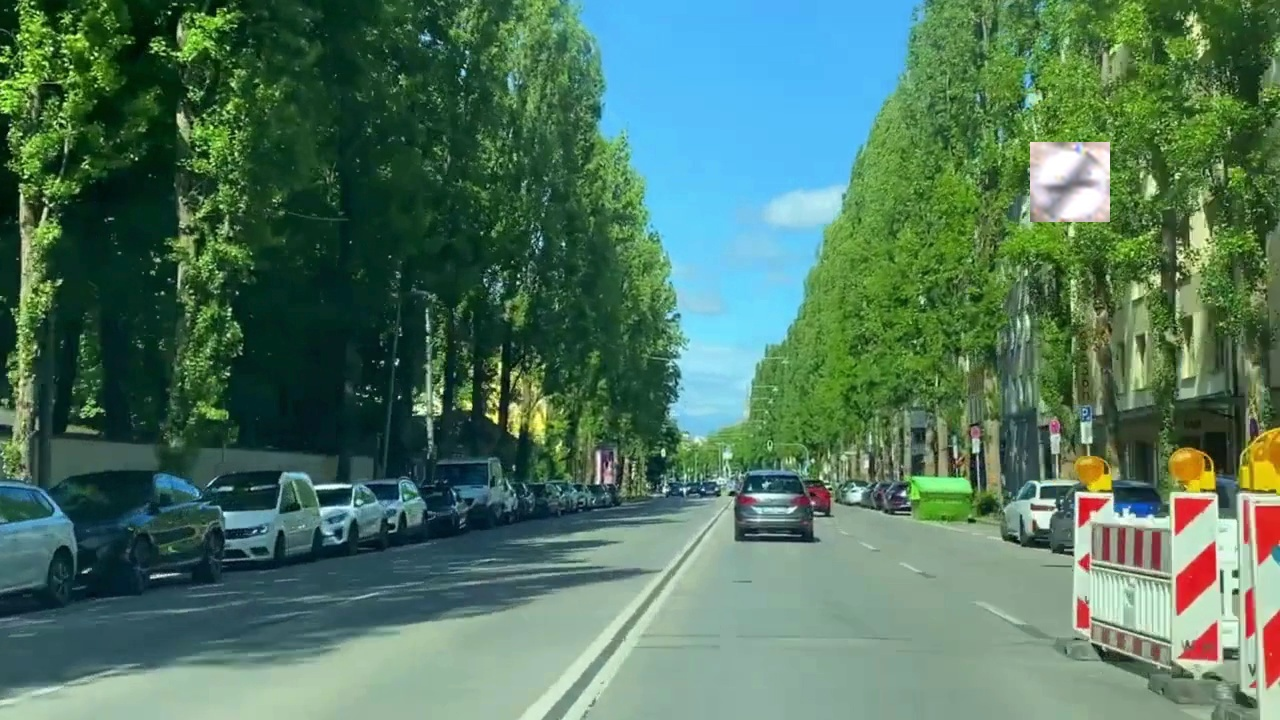End no pass: (1030, 142, 1110, 222)
